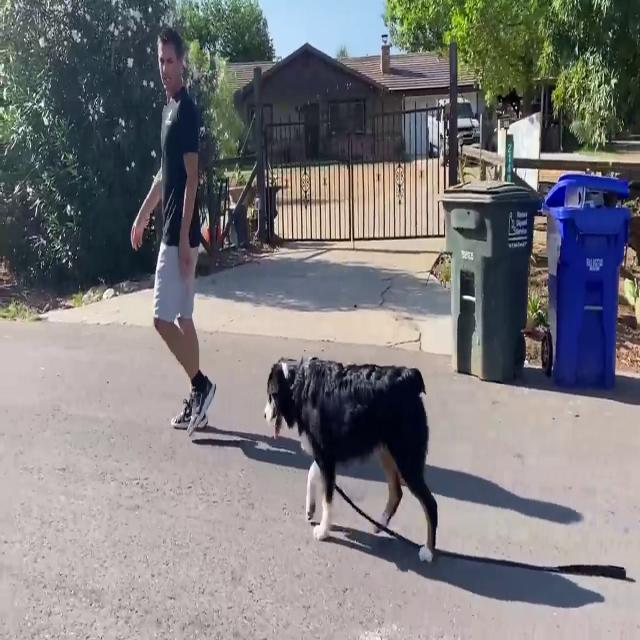Unleashed_Dog: (166, 243, 438, 564)
